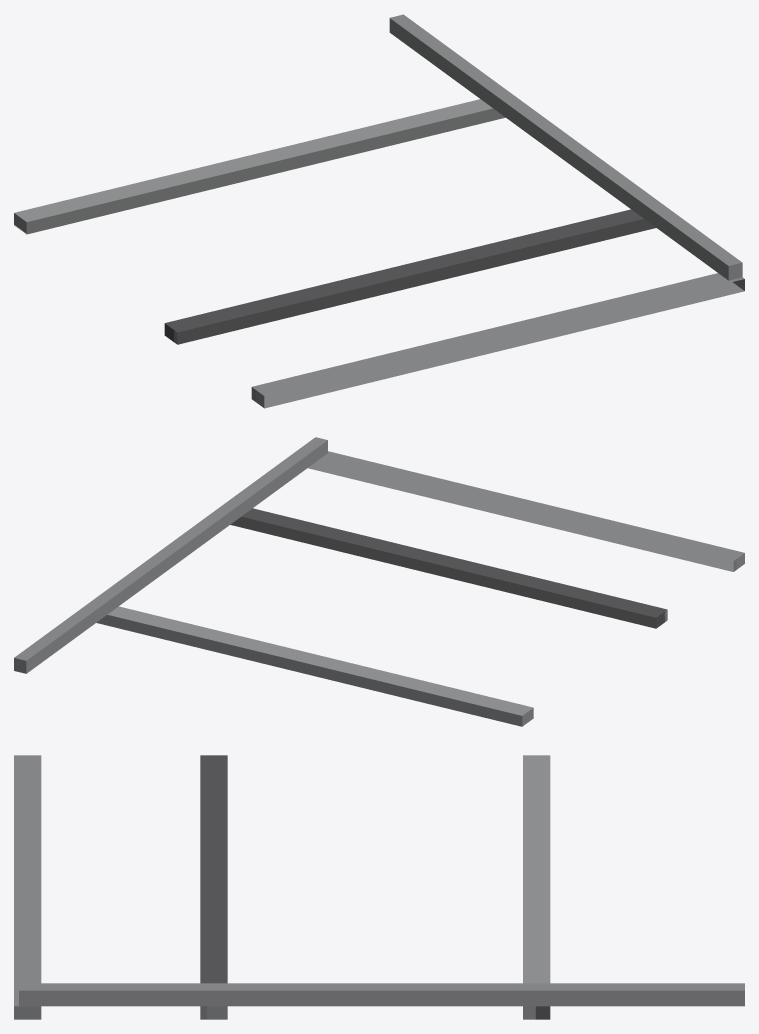
3 renders of one model, top to bottom at view 1: azimuth 30°, elevation 25°; view 2: azimuth 150°, elevation 25°; view 3: azimuth 270°, elevation 25°, orthographic. The views are drawn at different scales.
Size of the model in its own units: 0.9613 by 0.0514 by 1.18.
